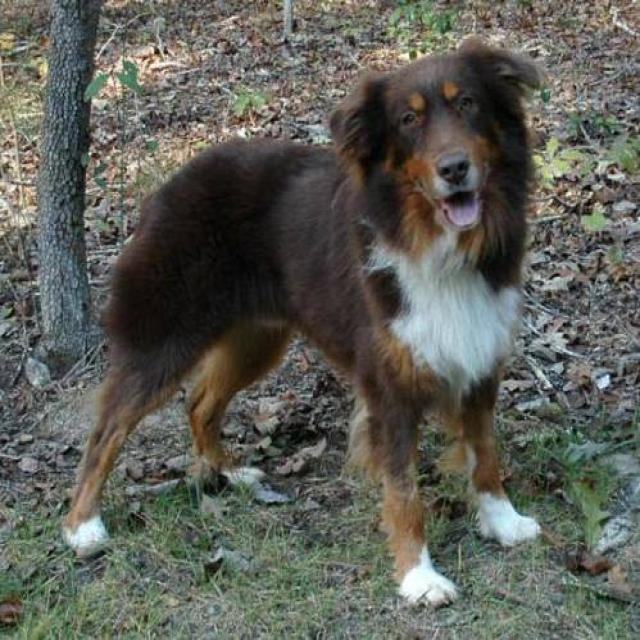dog: (59, 35, 544, 608)
